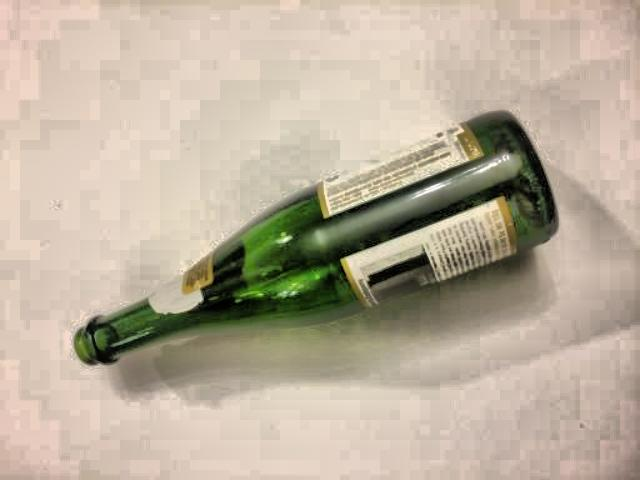Bottles: (77, 98, 572, 390)
